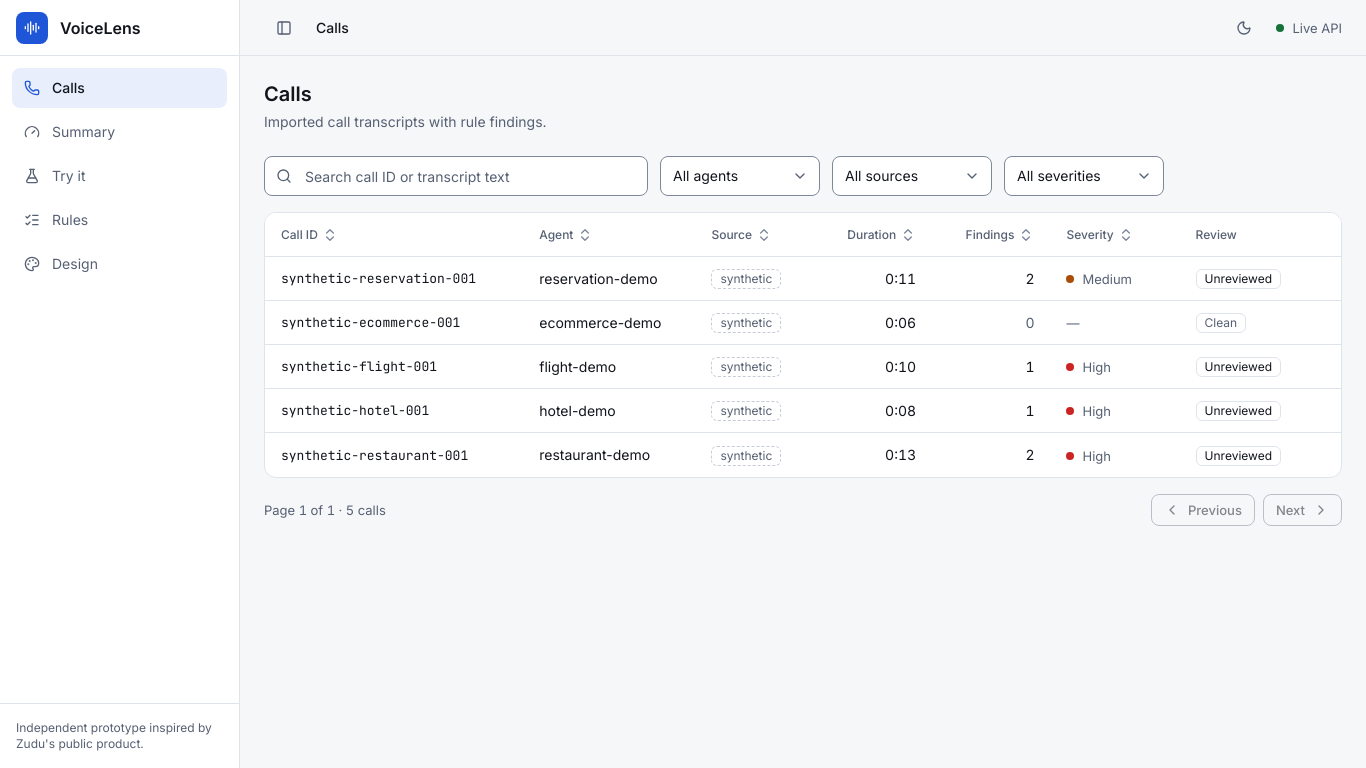
Scenario: app shell › collapses and expands the sidebar and remembers the choice
Click the button named "Collapse sidebar" at x=284, y=28, box [264,8,304,48]
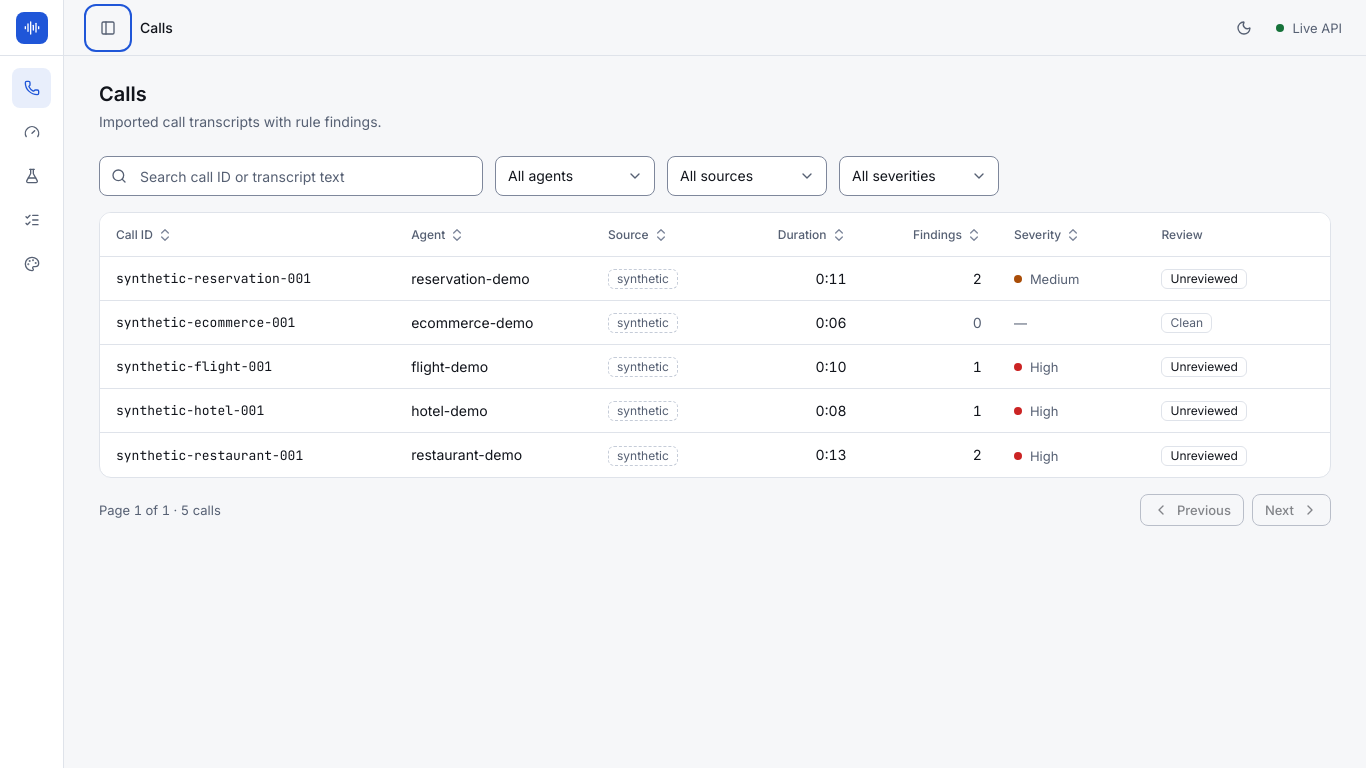
Expected: the button named "Expand sidebar" is collapsed
Click the button named "Expand sidebar" at x=108, y=28, box [88,8,128,48]
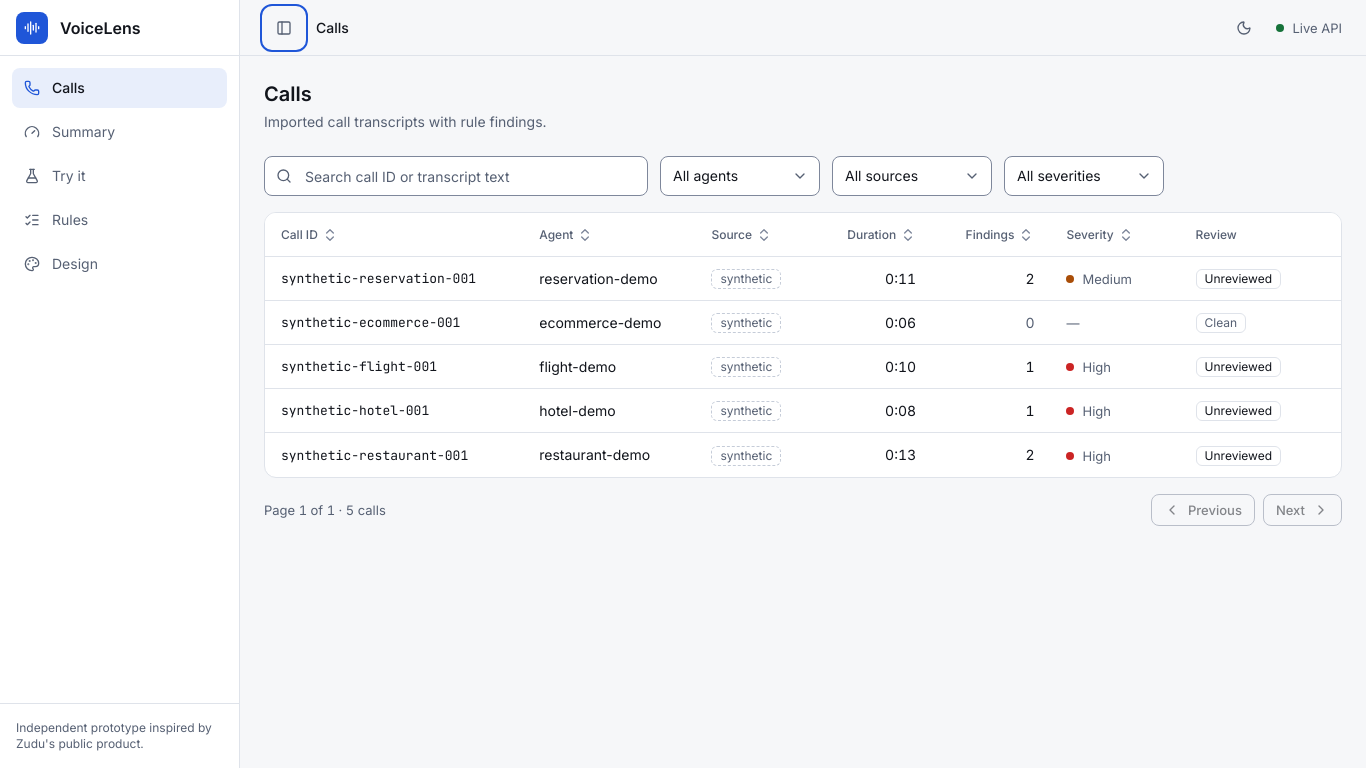
Expected: the button named "Collapse sidebar" is shown, [264,8,304,48]
